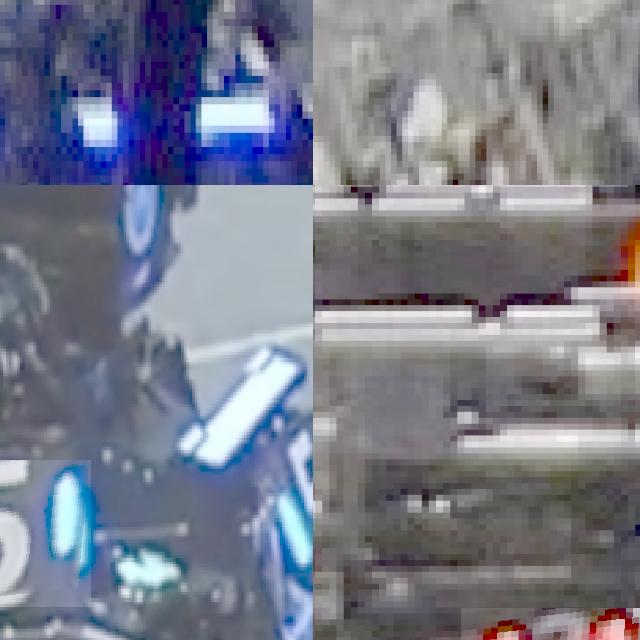B5: (0, 459, 91, 607)
R2: (461, 607, 640, 640)
